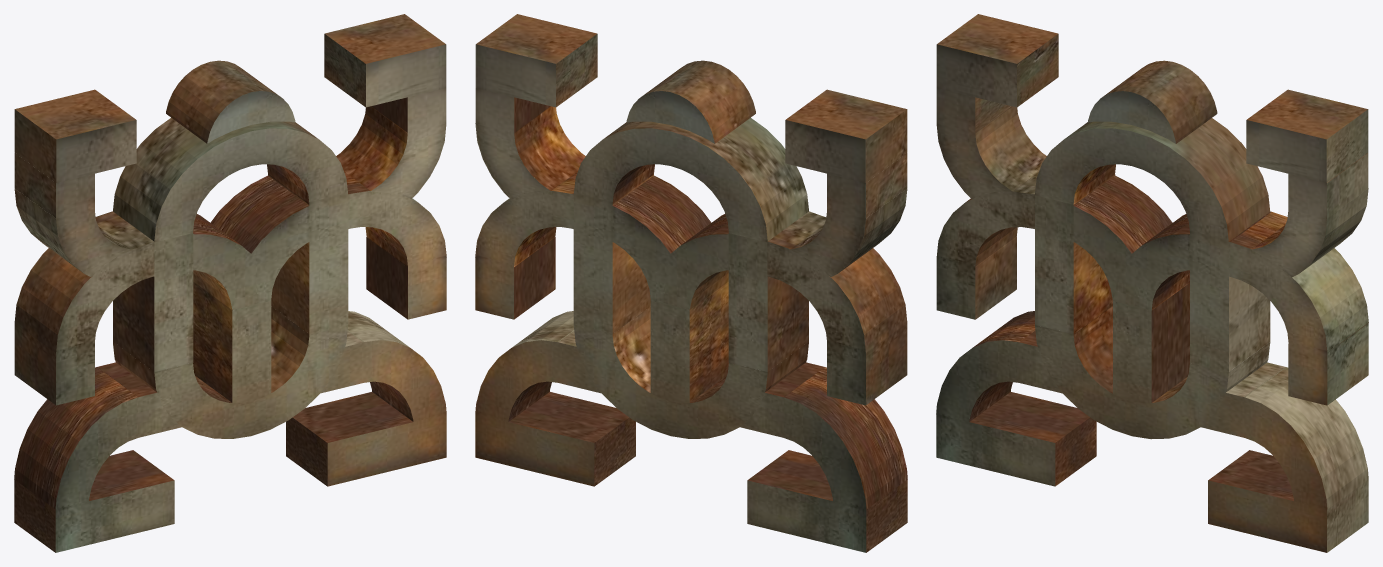
Rendered from ndg-019d3e75-7731-7261-913d-842515f90190.glb.
3 renders of one model, left to right at view 1: azimuth 30°, elevation 25°; view 2: azimuth 150°, elevation 25°; view 3: azimuth 330°, elevation 25°, orthographic.
Parts seen in each view (by area): view 1: Logo Khepri.001; view 2: Logo Khepri.001; view 3: Logo Khepri.001.
Boxes of the visible parts, x1,y1,x2,y2 form: Logo Khepri.001: [14, 14, 446, 552]; Logo Khepri.001: [475, 14, 907, 552]; Logo Khepri.001: [936, 14, 1368, 552].
Size of the model in its own units: 3.25 by 3.29 by 0.5969.
Materials: 1 (1 with a texture image).
